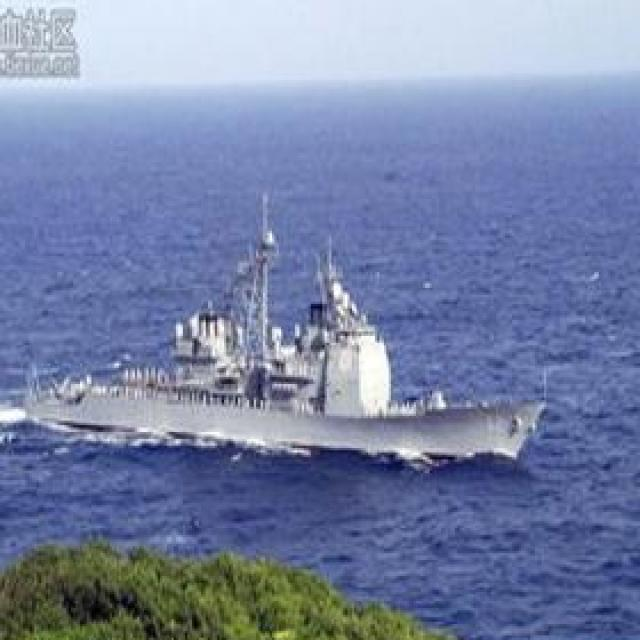navalvessels: (11, 206, 546, 464)
